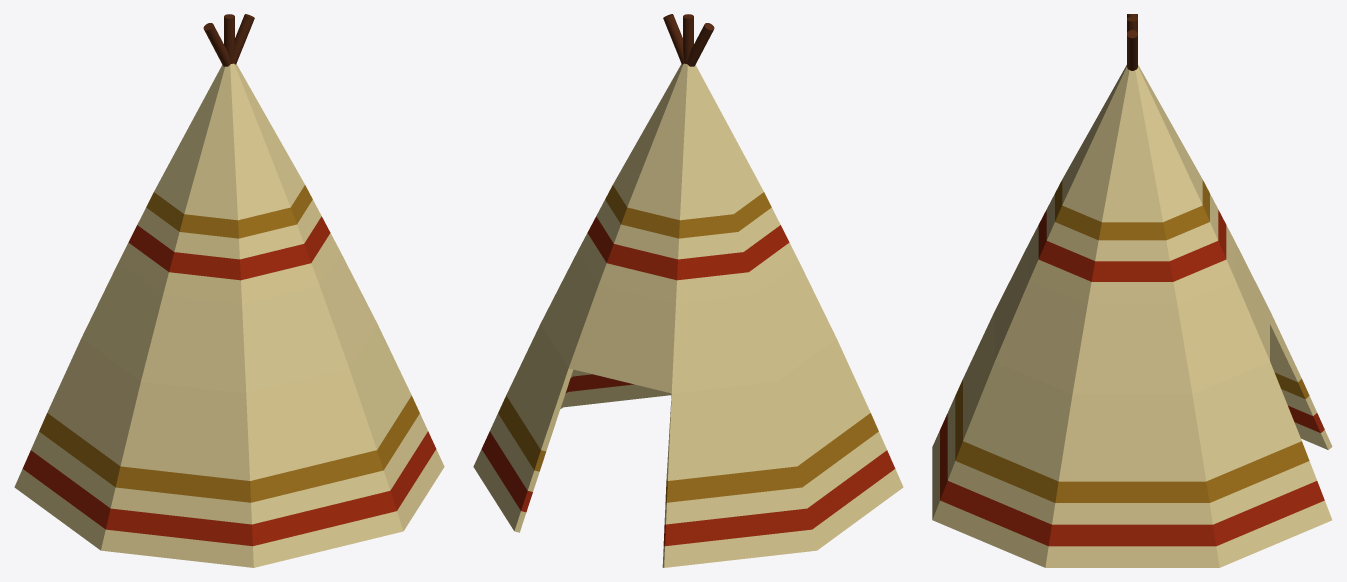
File: tipi-orange.fbx
The picture shows the model from 3 angles, left to right: view 1: azimuth 30°, elevation 25°; view 2: azimuth 150°, elevation 25°; view 3: azimuth 270°, elevation 25°; orthographic projection.
Parts seen in each view (by area): view 1: Tipi; view 2: Tipi; view 3: Tipi.
Boxes of the visible parts, x1=… form: Tipi: x1=14, y1=14, x2=444, y2=567; Tipi: x1=473, y1=14, x2=903, y2=567; Tipi: x1=932, y1=14, x2=1332, y2=567.
Bounding box in the file's own units: 387 × 498 × 387.
